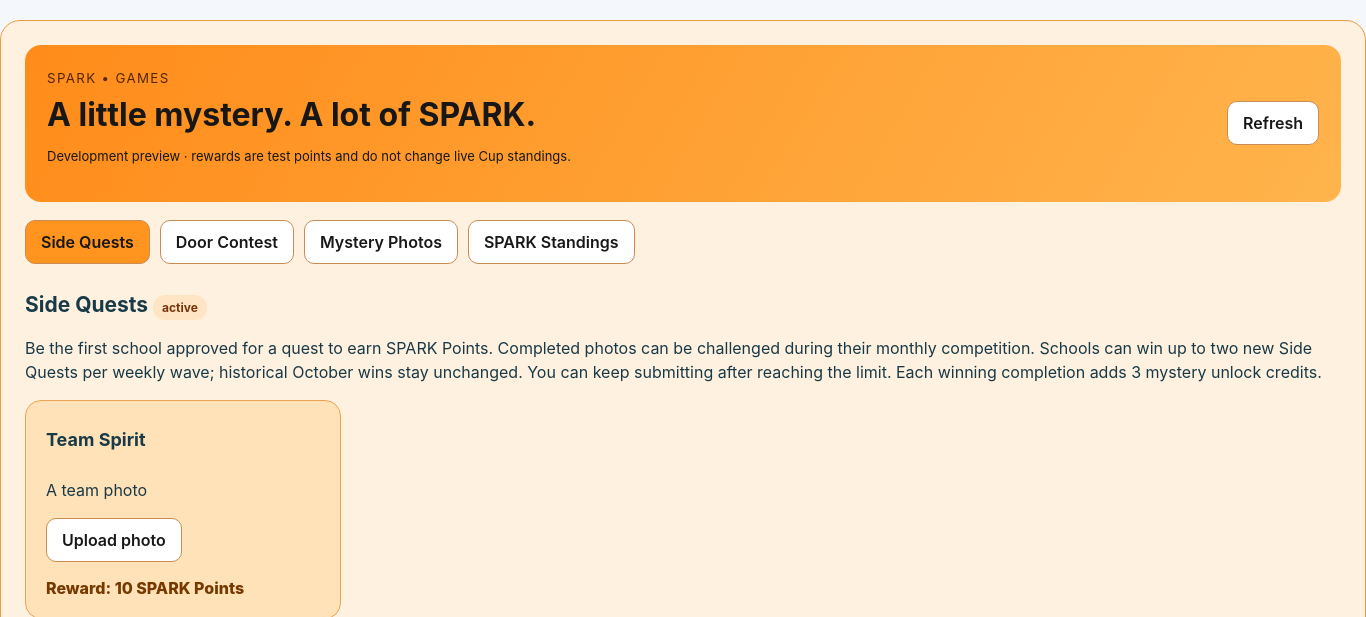
door gallery uses configured rewards and keeps actual past awards
This screenshot has width=1366, height=617.
Click the button "Door Contest": [227, 242] box [160,220,294,264]
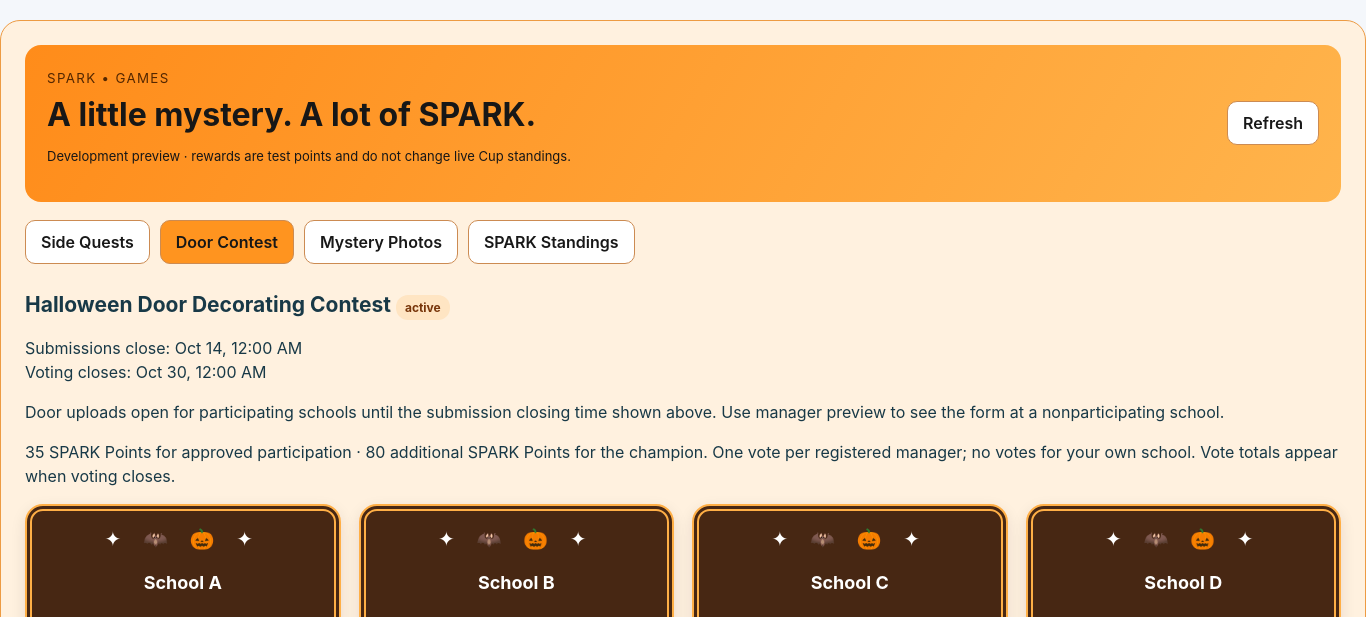
Expected: the text "35 SPARK Points for approved participation · 80 additional SPARK Points for the champion" is shown, [25,440,1341,488]
